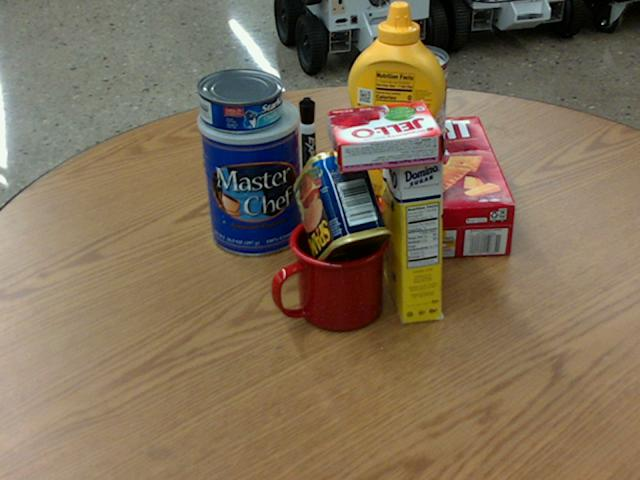cracker_box: (345, 115, 513, 260)
gelatin_box: (327, 99, 443, 171)
large_marker: (297, 98, 317, 198)
master_chef_can: (198, 93, 304, 254)
mug: (268, 213, 386, 332)
mustard_bottle: (347, 1, 445, 197)
potted_meat_can: (292, 148, 391, 270)
sugar_box: (378, 112, 441, 325)
tomato_soup_can: (386, 44, 447, 152)
tuna_fish_can: (196, 67, 282, 131)
